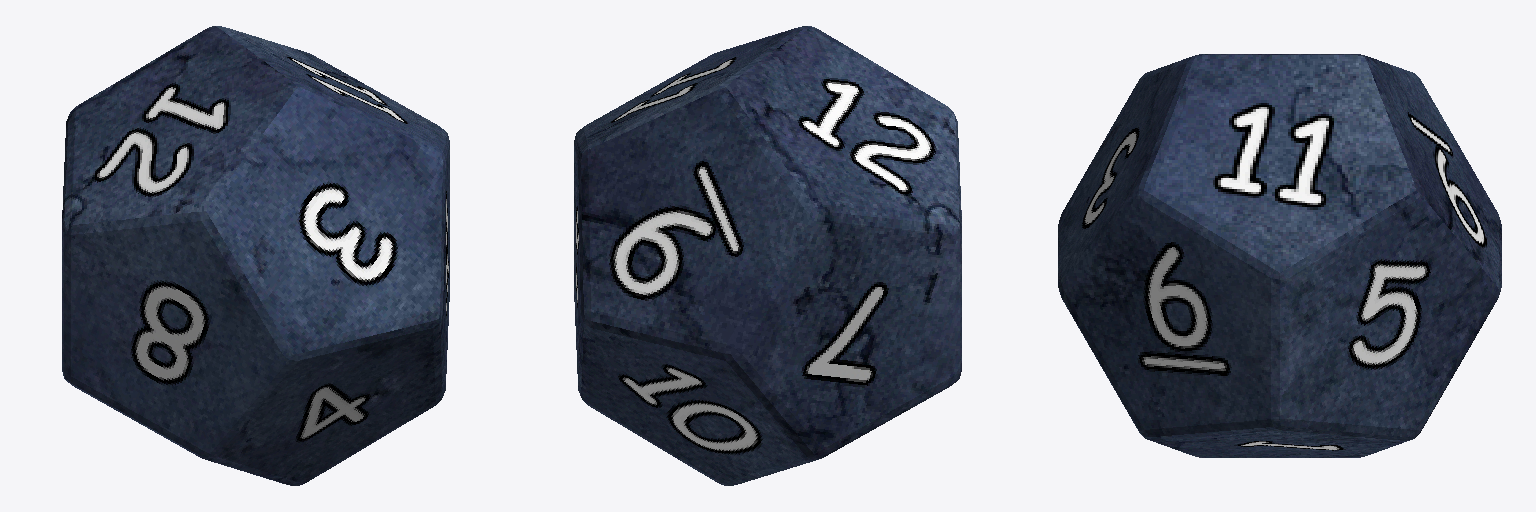
The picture shows the model from 3 angles: view 1: azimuth 30°, elevation 25°; view 2: azimuth 150°, elevation 25°; view 3: azimuth 270°, elevation 25°; orthographic projection.
Bounding box in the file's own units: 6.32 × 6.32 × 6.32.
1 materials, 1 textured.